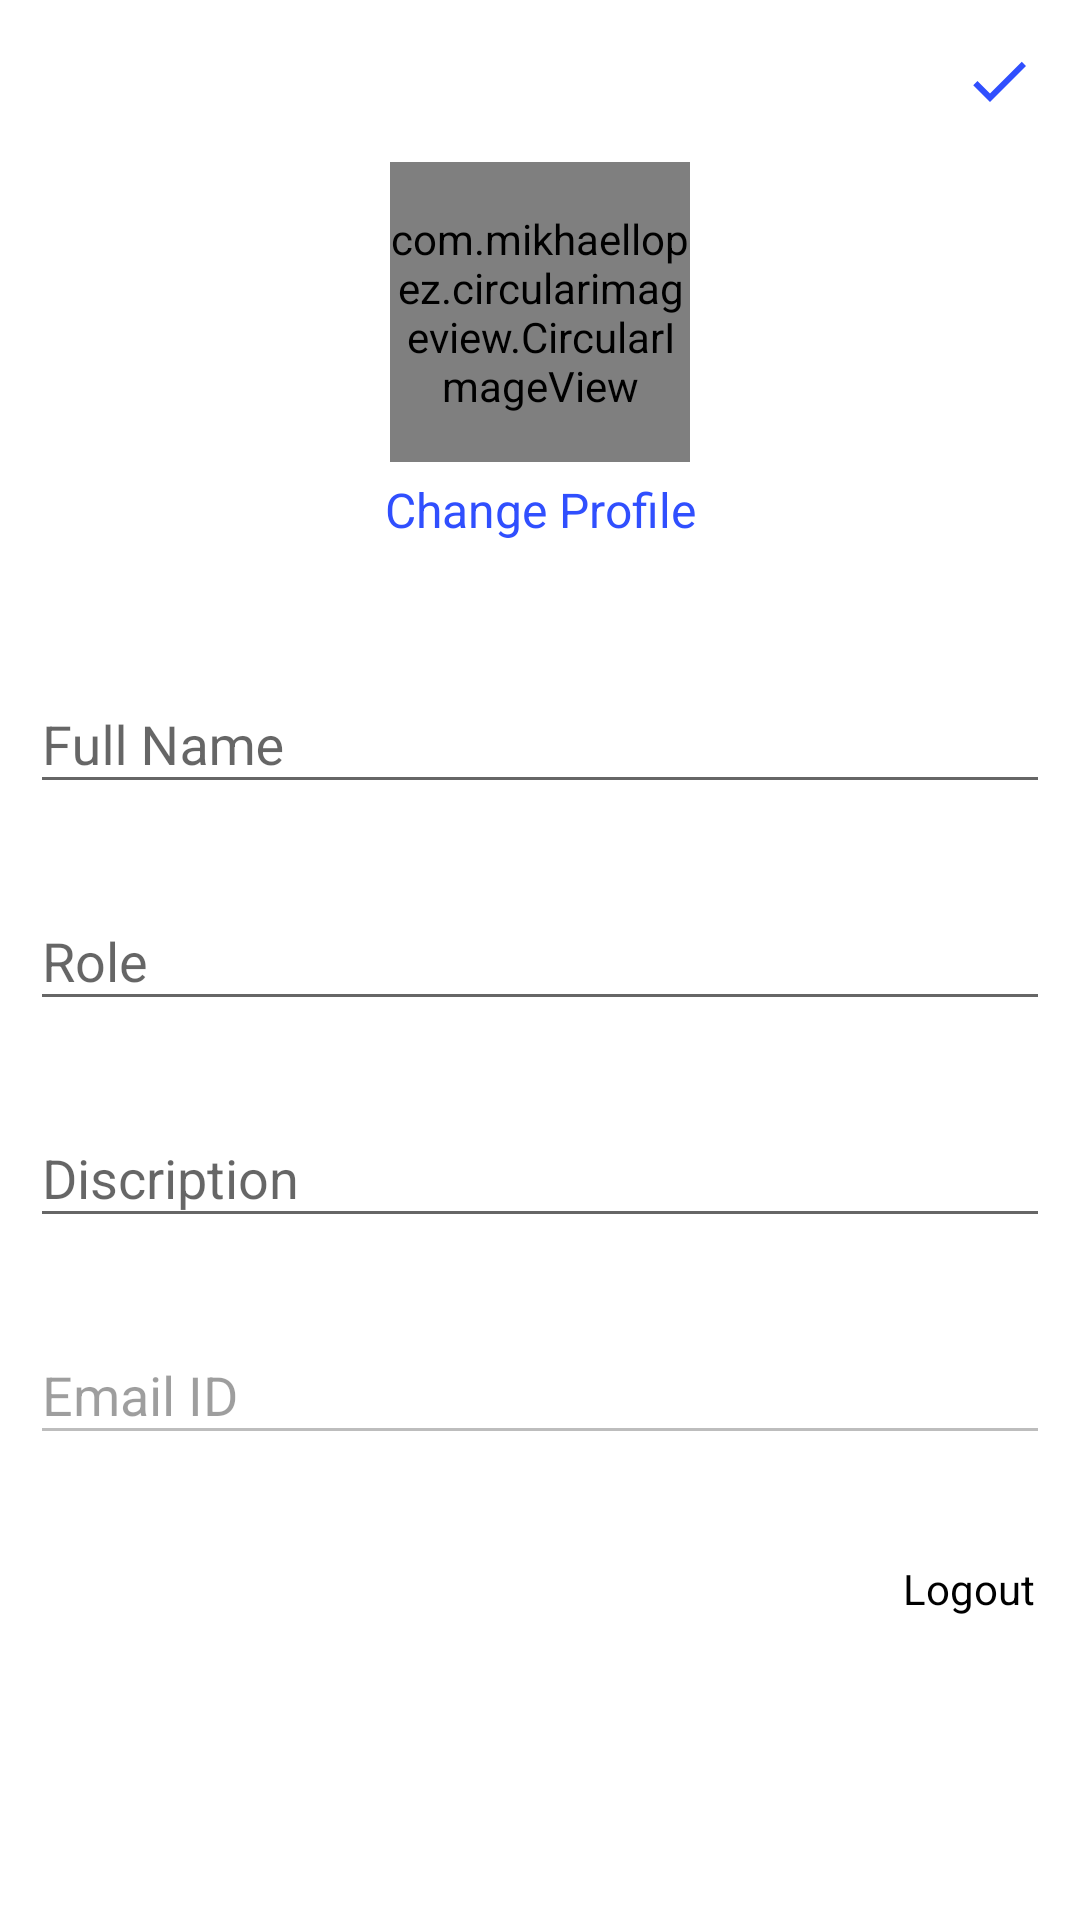

Icons on this 1080px x 1920px Android screen, each with its box as bbox(x1, y1, x2, y2):
check: bbox(973, 62, 1026, 102)
